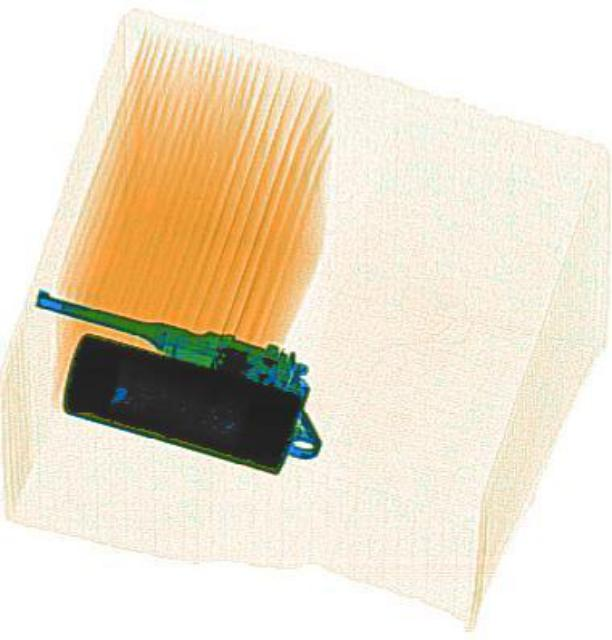Gun: (8, 284, 339, 460)
